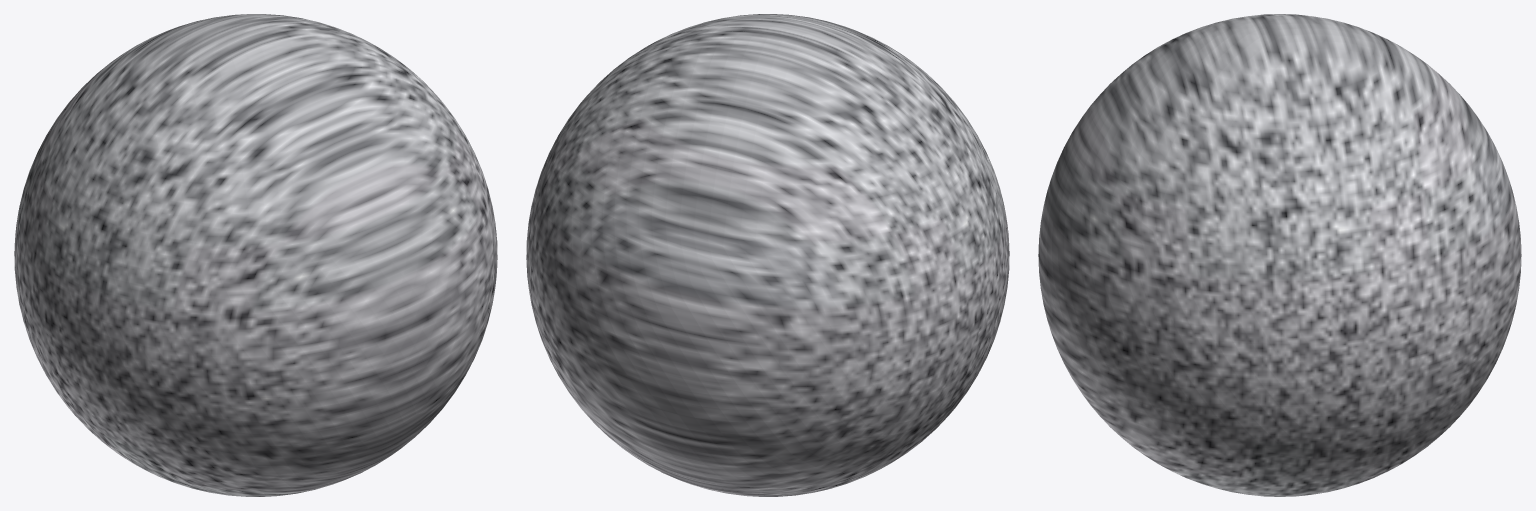
The model's file is asset.glb.
3 renders of one model, left to right at view 1: azimuth 30°, elevation 25°; view 2: azimuth 150°, elevation 25°; view 3: azimuth 270°, elevation 25°, orthographic.
Bounding box in the file's own units: 50 × 50 × 50.
Materials: 1 (1 with a texture image).
